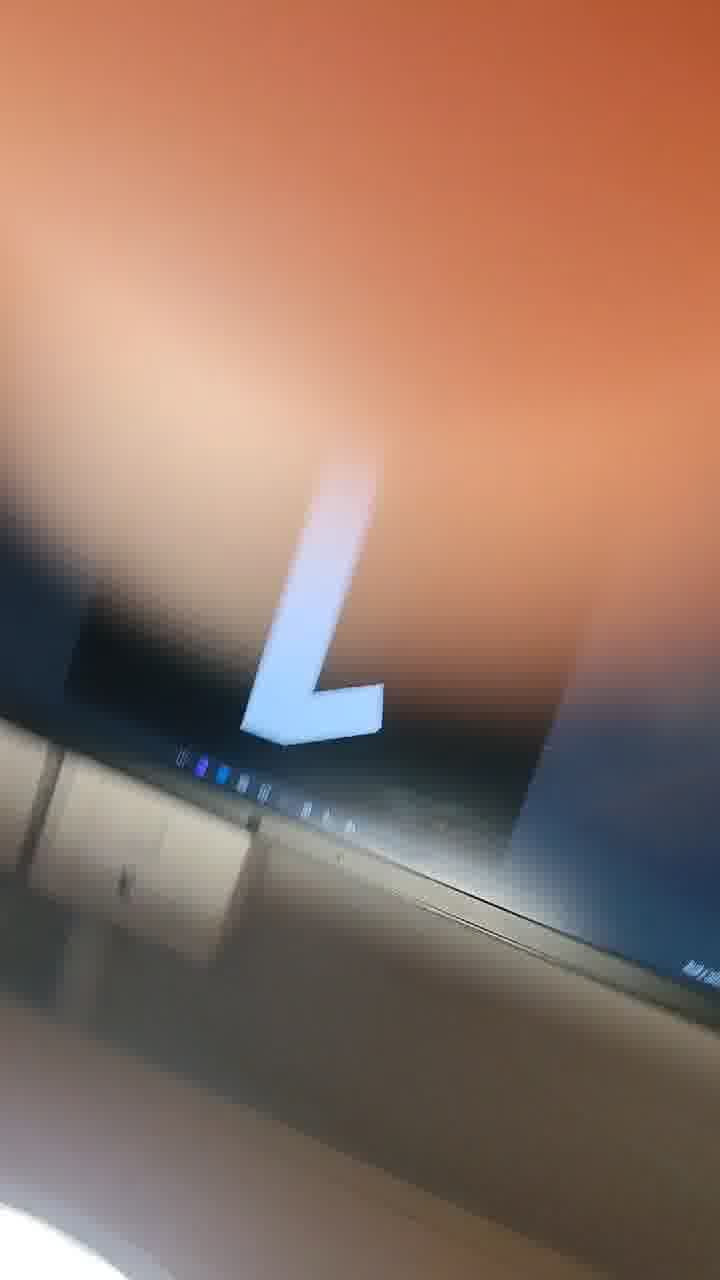one: (191, 383, 465, 767)
